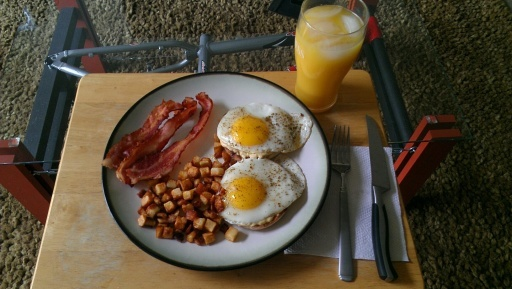background: (82, 41, 250, 110), (58, 2, 293, 49)
